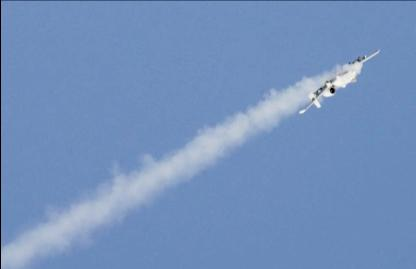A10: (298, 50, 380, 114)
